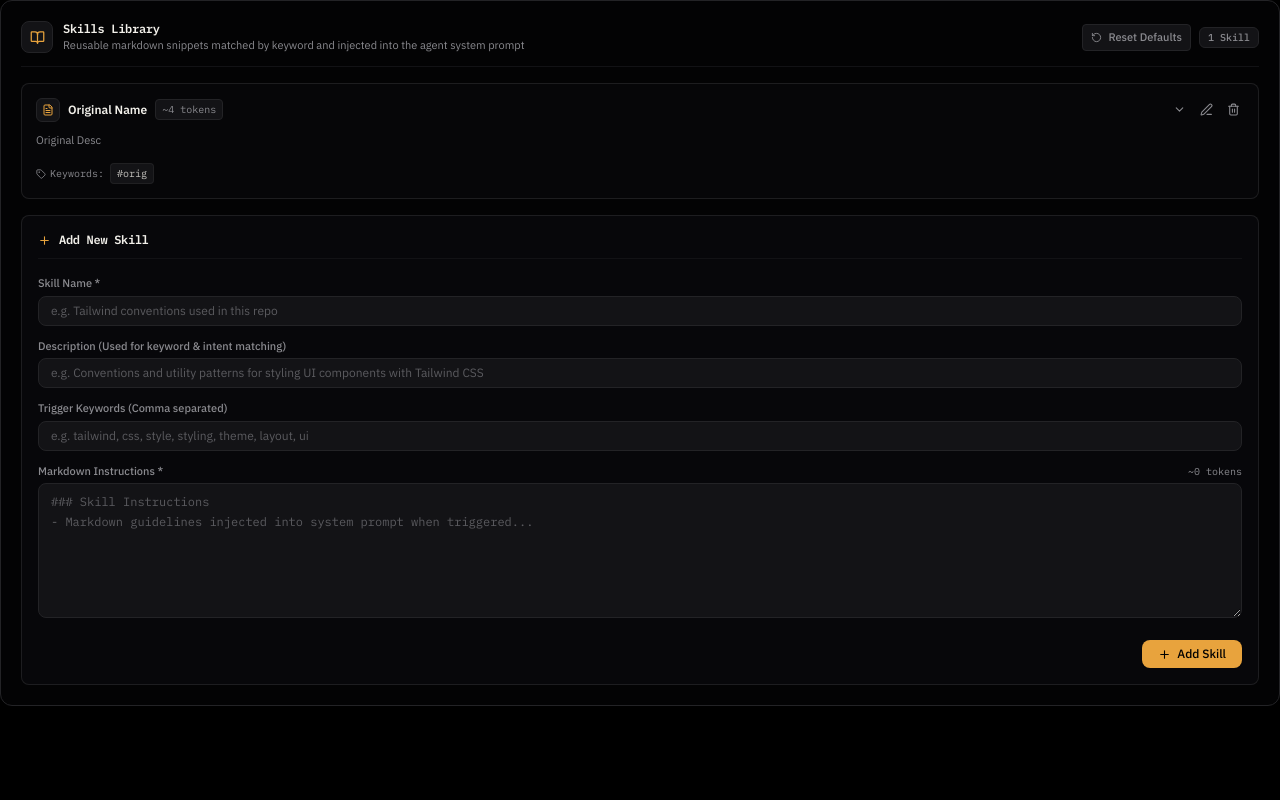
it: SettingsSkillsSection › allows editing an existing skill
Expected: the text "Original Name" is shown, [68,102,147,118]
Click the button named "Edit Original Name": (1206, 110) [1196,99,1217,120]
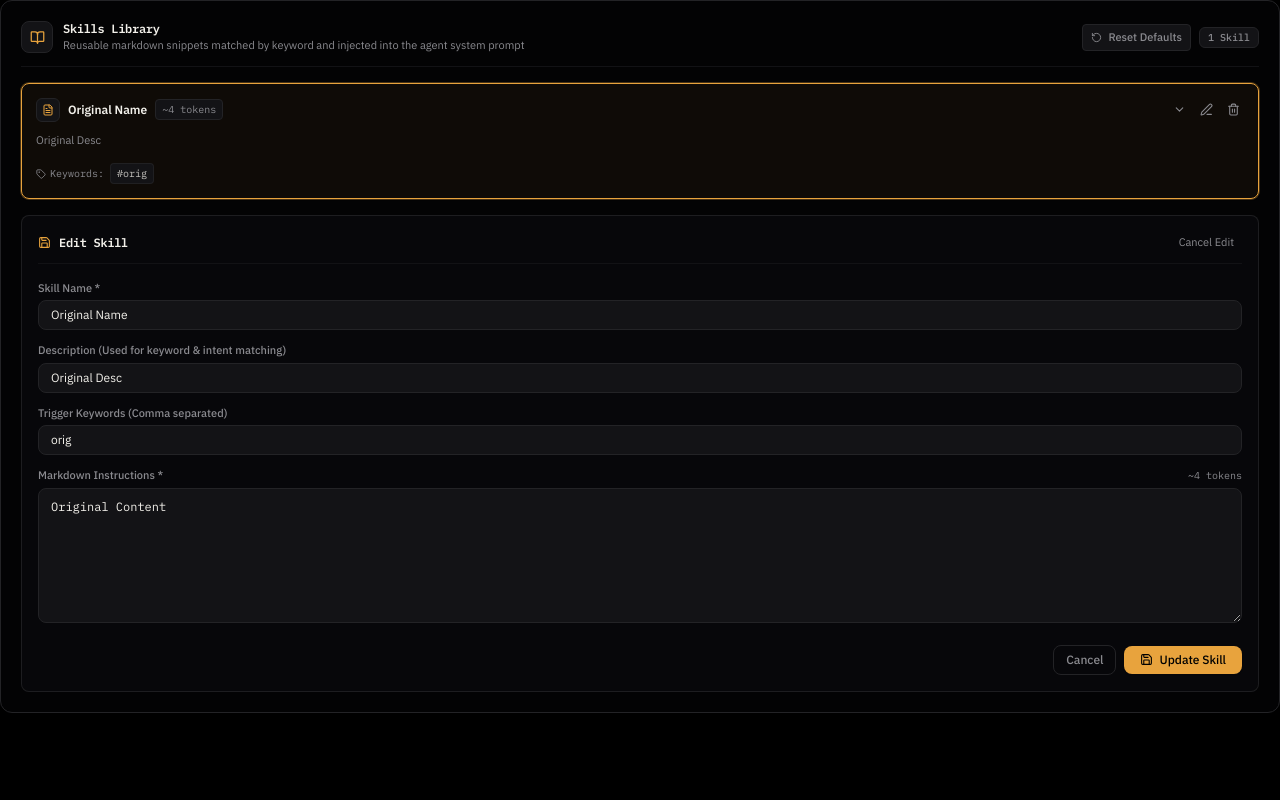
Result: the field labelled "Skill Name *" holds "Original Name"
Replace the text in the field labelled "Skill Name *" with "Updated Skill Name": (640, 315) [38,300,1242,330]
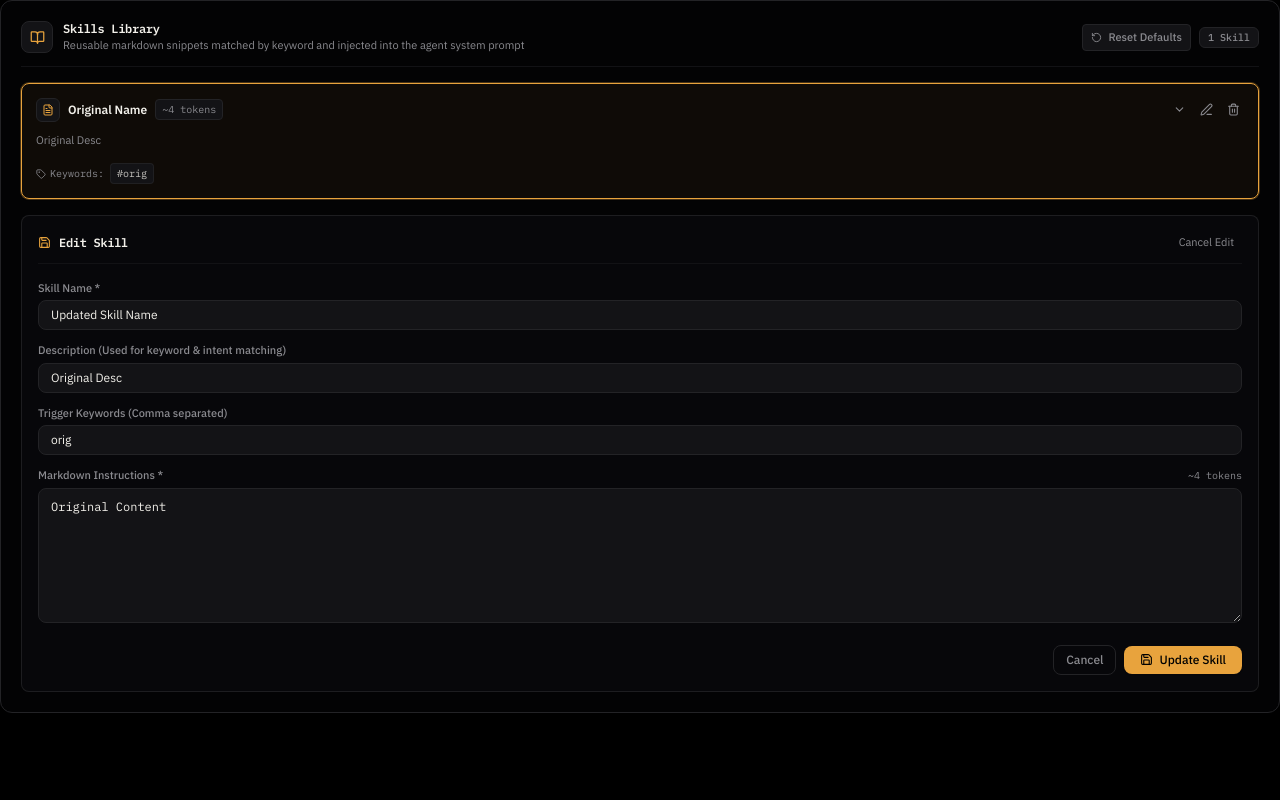
Click the button "Update Skill": (1183, 660) [1124,646,1242,674]
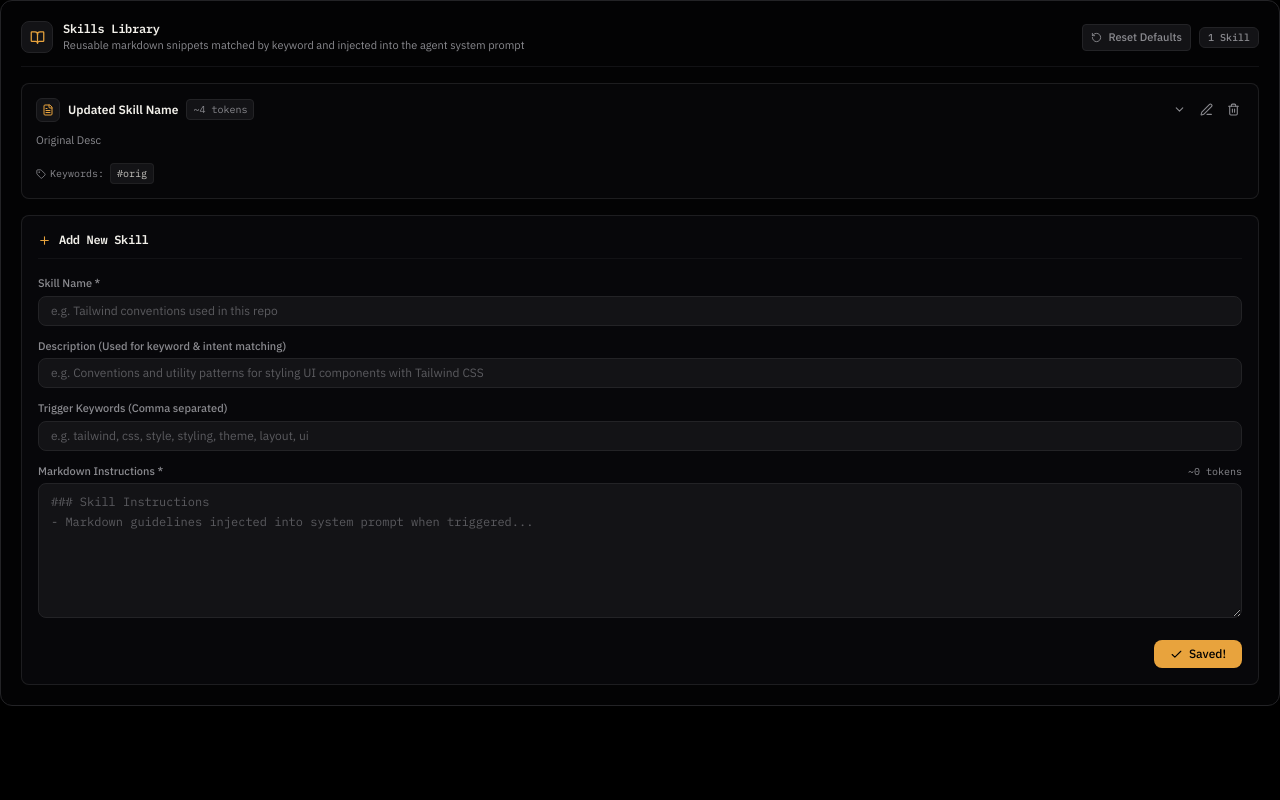
Result: the text "Original Name" reads "Updated Skill Name" at [68,102,178,116]
Result: the text "Updated Skill Name" is shown at [68,102,178,118]
